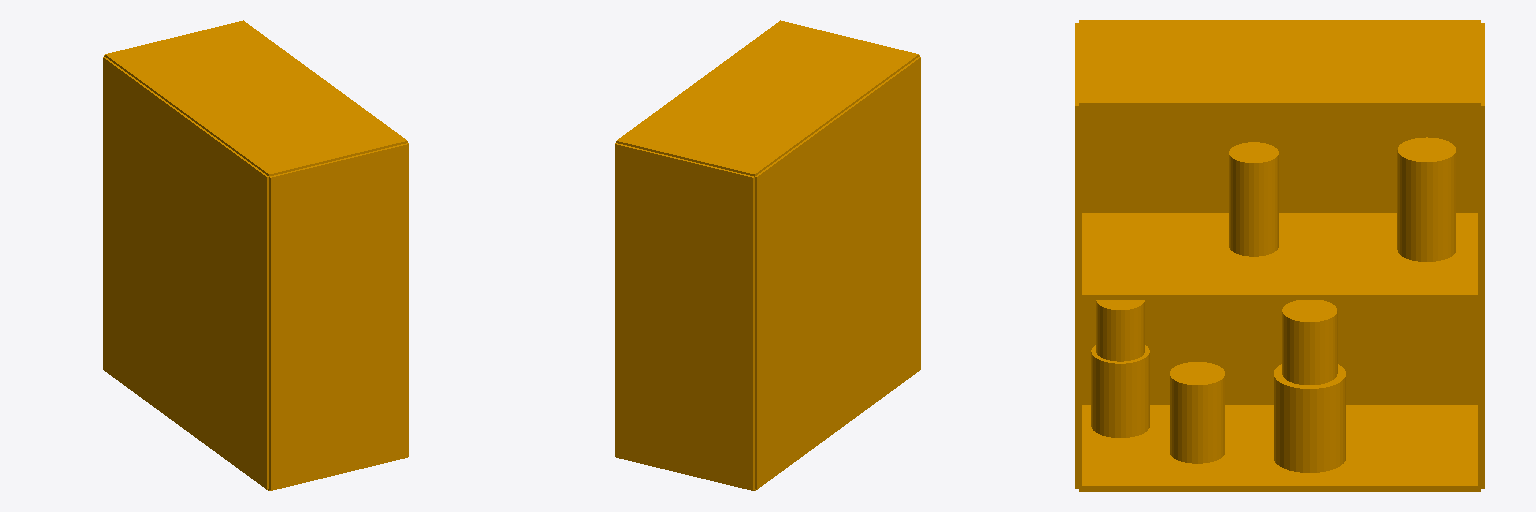
robot.urdf — syn_can_cabinet_2047:
<?xml version="1.0" ?>
<robot name="syn_can_cabinet_2047">
    <link concave="yes" name="base_link">
        <inertial>
            <origin rpy="0 0 0" xyz="0 0 0"/>
            <mass value="0.0"/>
            <inertia ixx="1e-08" ixy="0" ixz="0" iyy="1e-08" iyz="0" izz="1e-08"/>
        </inertial>
        <visual>
            <origin xyz="0 0 0" rpy="0 0 0" />
            <geometry>
                <mesh filename="syn_can_cabinet_2047.obj" scale="1.000000 1.000000 1.000000"/>
            </geometry>         
        </visual>

        <collision concave="yes">
            <origin xyz="0 0 0" rpy="0 0 0"/>
            <geometry>
                <mesh filename="syn_can_cabinet_2047.obj" scale="1.000000 1.000000 1.000000"/>
            </geometry>
        </collision>
    </link>
</robot>
    

--- What the picture shows (computed from the rendered views, not written in the file) ---
The picture shows the robot from 3 angles, left to right: view 1: azimuth 30°, elevation 25°; view 2: azimuth 150°, elevation 25°; view 3: azimuth 270°, elevation 25°; orthographic projection.
Robot: syn_can_cabinet_2047 — 1 links, 0 joints (none); root link base_link; default pose: every joint at zero.
Visible links, largest first — view 1: base_link; view 2: base_link; view 3: base_link.
Boxes of the visible links, x1,y1,x2,y2 form: base_link: [103, 20, 408, 490]; base_link: [615, 20, 920, 490]; base_link: [1075, 20, 1484, 491].
Size in the robot's own frame: 0.1767 by 0.3634 by 0.3803 metres.
Meshes: 1 distinct files referenced, 1 mesh visuals loaded (1 OBJ).
